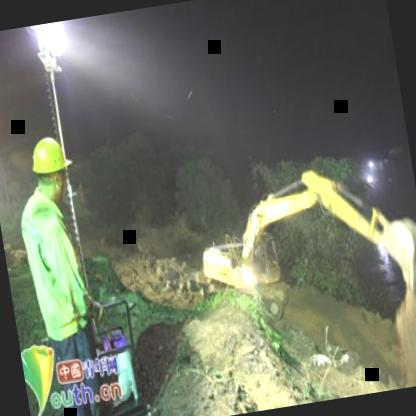helmet: (25, 129, 76, 202)
